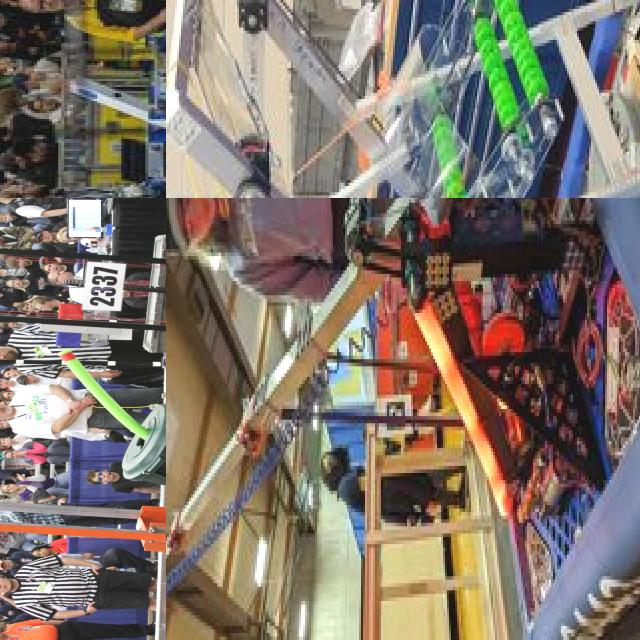FRC-Robots: (166, 198, 640, 640), (169, 0, 640, 198), (0, 209, 166, 391), (31, 0, 166, 198), (0, 481, 166, 639)
